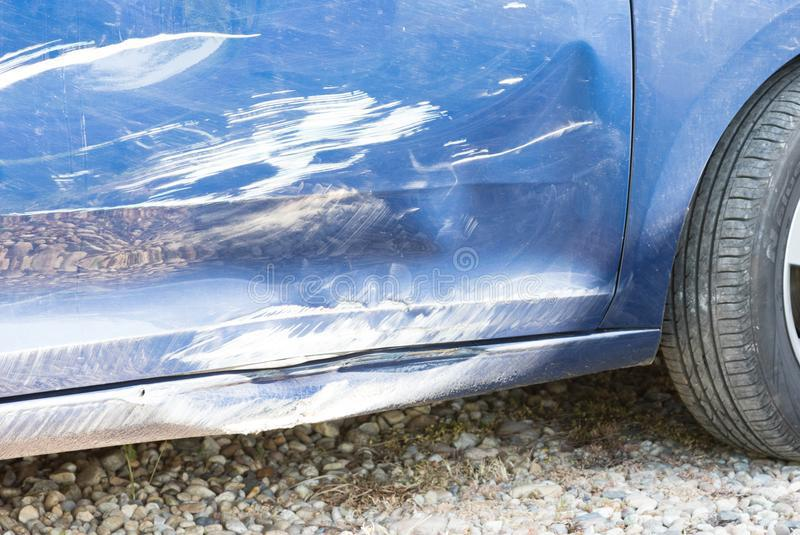RunningBoard-Dent: (0, 347, 644, 429)
doorouter-dent: (0, 0, 616, 340)
